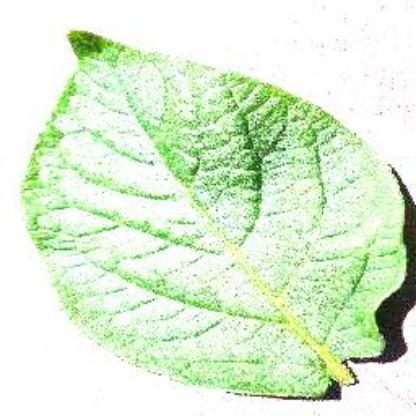Healthy-plant: (29, 23, 407, 393)
